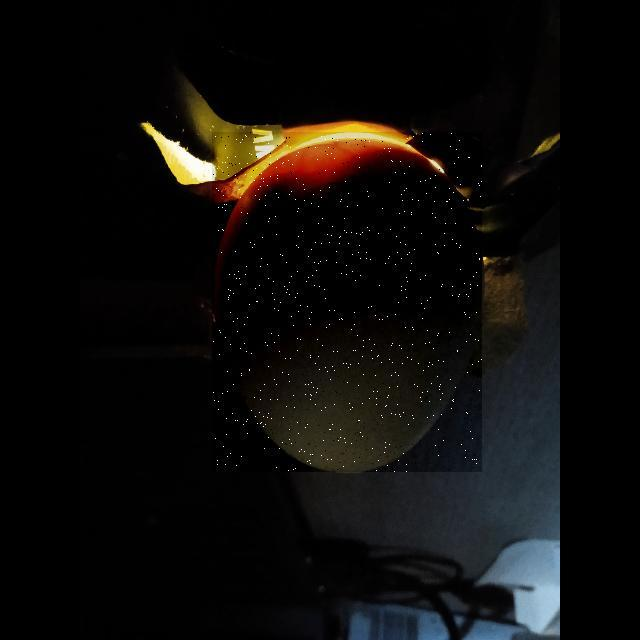Fertile: (212, 132, 482, 472)
